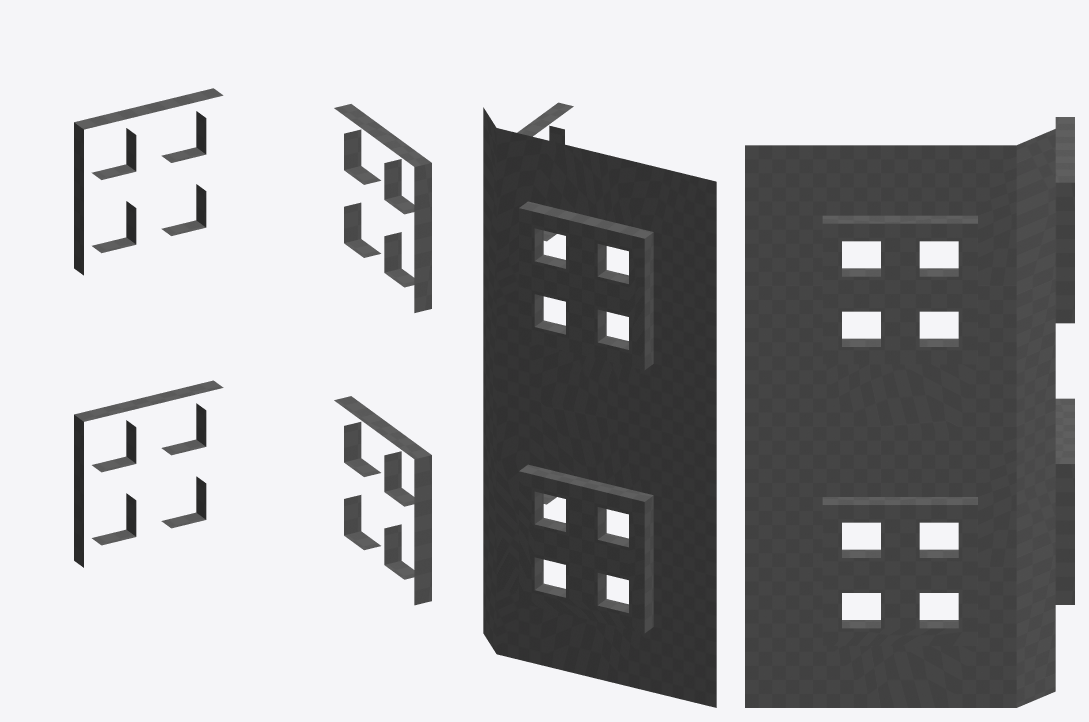
3 views of the same model, side by side, from view 1: azimuth 30°, elevation 25°; view 2: azimuth 150°, elevation 25°; view 3: azimuth 270°, elevation 25° (orthographic). The views are drawn at different scales.
Parts seen in each view (by area): view 1: 3; view 2: 3; view 3: 3.
Part boxes in pixels (x1,y1,x2,y2): 3: (74, 88, 431, 605); 3: (483, 102, 716, 707); 3: (745, 117, 1074, 707).
Bounding box in the file's own units: 2.12 × 4 × 2.12.
2 materials, 2 textured.
